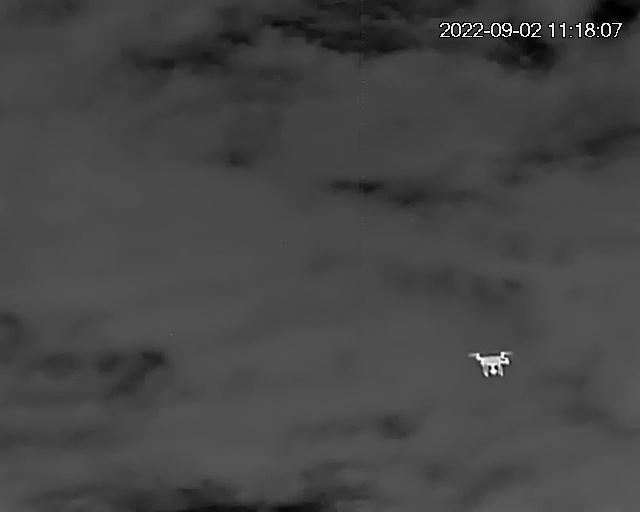DJI-Phantom: (465, 344, 518, 383)
